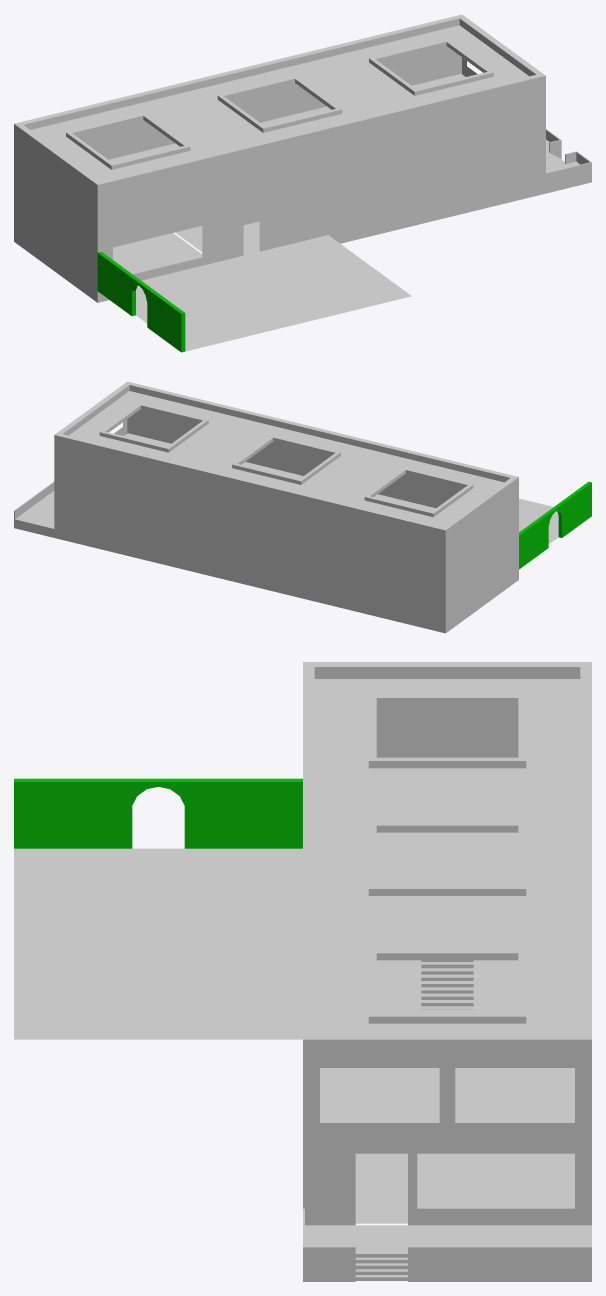
The model's file is bs_restaurant_01.glb.
3 renders of one model, top to bottom at view 1: azimuth 30°, elevation 25°; view 2: azimuth 150°, elevation 25°; view 3: azimuth 270°, elevation 25°, orthographic. The views are drawn at different scales.
Visible parts, largest first — view 1: exterior_walls-col, roof-col, exterior_back_patio-col, exterior_hedge-col, ground_floor-col, exterior_front_patio-col, skylight-col.001, skylight-col, skylight-col.002, first_floor-col; view 2: exterior_walls-col, roof-col, exterior_hedge-col, exterior_front_patio-col, skylight-col, skylight-col.002, skylight-col.001, exterior_back_patio-col, first_floor-col; view 3: roof-col, exterior_back_patio-col, exterior_walls-col, first_floor-col, exterior_hedge-col, exterior_front_patio-col, ground_floor-col, skylight-col.002, skylight-col, skylight-col.001, stairs-col.
Part boxes in pixels (box(x1,y1,x2,y2)): exterior_walls-col: box(14, 46, 545, 302); roof-col: box(14, 14, 545, 191); exterior_back_patio-col: box(136, 235, 411, 351); exterior_hedge-col: box(97, 251, 185, 352); ground_floor-col: box(113, 221, 259, 274); exterior_front_patio-col: box(546, 129, 591, 193); skylight-col.001: box(217, 76, 342, 132); skylight-col: box(369, 39, 493, 95); skylight-col.002: box(66, 113, 190, 169); first_floor-col: box(109, 73, 465, 162); exterior_walls-col: box(54, 409, 518, 633); roof-col: box(54, 381, 518, 536); exterior_hedge-col: box(519, 481, 591, 569); exterior_front_patio-col: box(14, 481, 54, 537); skylight-col: box(99, 403, 208, 452); skylight-col.002: box(364, 467, 473, 517); skylight-col.001: box(232, 435, 340, 484); exterior_back_patio-col: box(519, 498, 558, 543); first_floor-col: box(124, 433, 435, 511); roof-col: box(303, 662, 591, 1051); exterior_back_patio-col: box(14, 848, 302, 1039); exterior_walls-col: box(303, 705, 591, 1225); first_floor-col: box(320, 832, 574, 1122); exterior_hedge-col: box(14, 778, 302, 848); exterior_front_patio-col: box(303, 1208, 591, 1281); ground_floor-col: box(355, 1153, 574, 1223); skylight-col.002: box(368, 694, 526, 768); skylight-col: box(368, 950, 526, 1023); skylight-col.001: box(368, 822, 526, 895); stairs-col: box(421, 960, 473, 1009).
Size of the model in its own units: 37.5 by 8.55 by 22.
